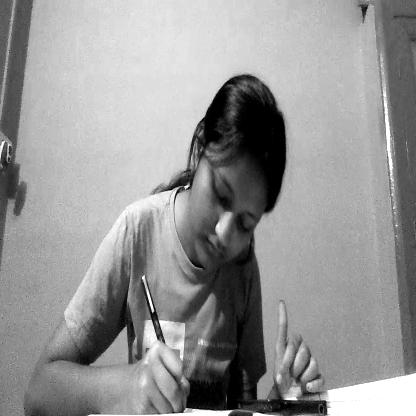Distracted: (186, 105, 279, 278)
